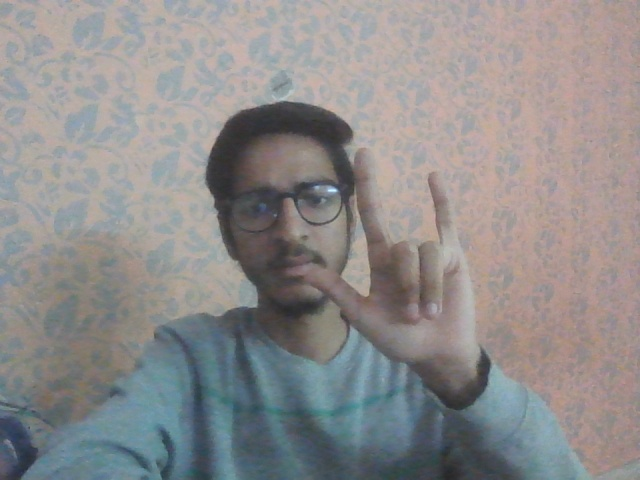ILoveYou: (300, 142, 484, 371)
